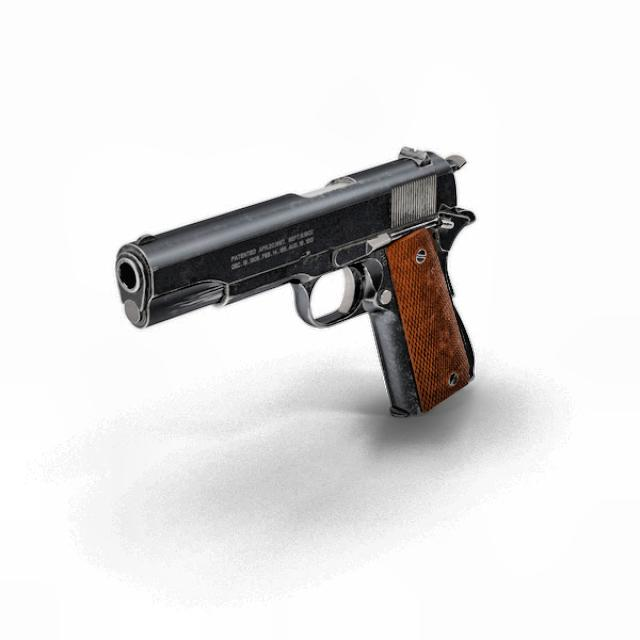Colt m1911: (113, 144, 478, 419)
